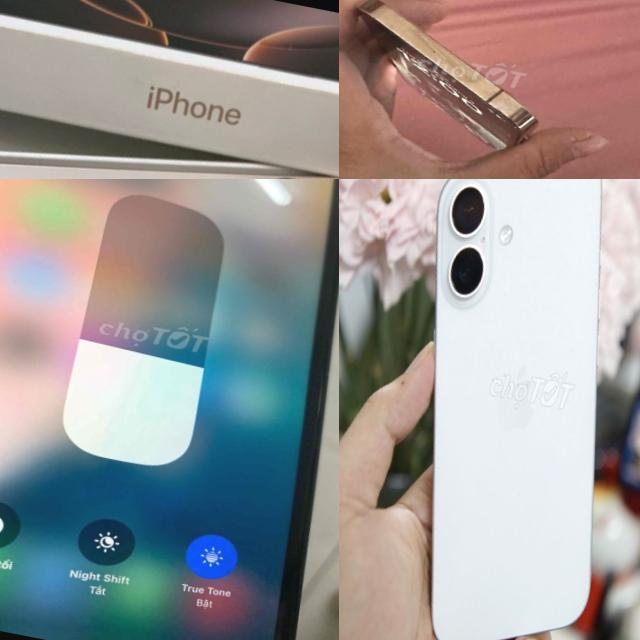gen_12_13: (339, 0, 571, 166)
gen_16: (347, 179, 640, 640), (0, 85, 339, 179)
gen_x_xs: (0, 179, 339, 640)
